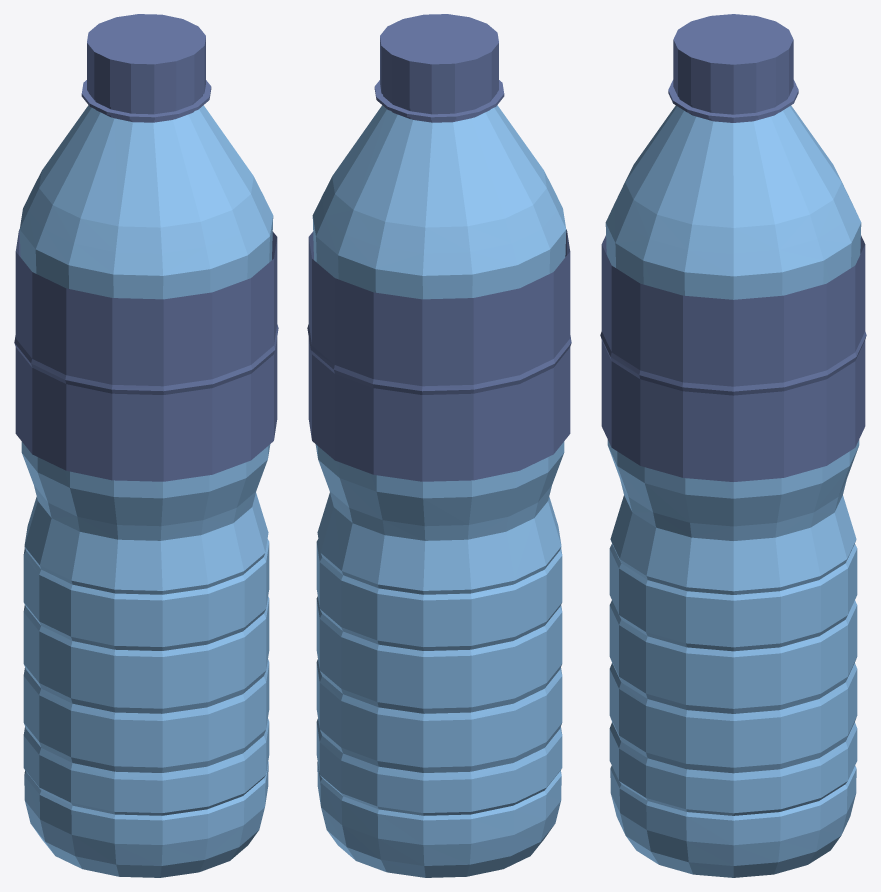
Rendered from Bottol.fbx.
The picture shows the model from 3 angles, left to right: view 1: azimuth 30°, elevation 25°; view 2: azimuth 150°, elevation 25°; view 3: azimuth 270°, elevation 25°; orthographic projection.
Parts seen in each view (by area): view 1: Bottol_01; view 2: Bottol_01; view 3: Bottol_01.
Part boxes in pixels (x1,y1,x2,y2): Bottol_01: (14, 14, 278, 877); Bottol_01: (307, 14, 571, 877); Bottol_01: (600, 14, 866, 877).
Bounding box in the file's own units: 0.077 × 0.2536 × 0.077.
Materials: 1 (1 with a texture image).
